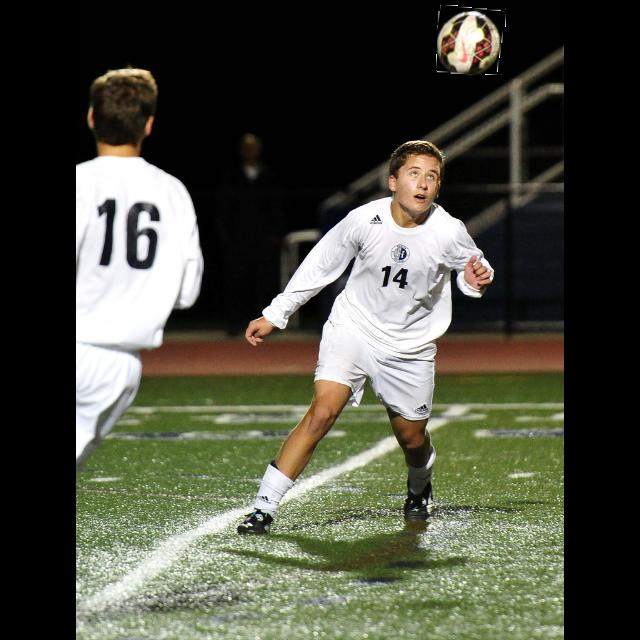Football: (437, 6, 505, 74)
